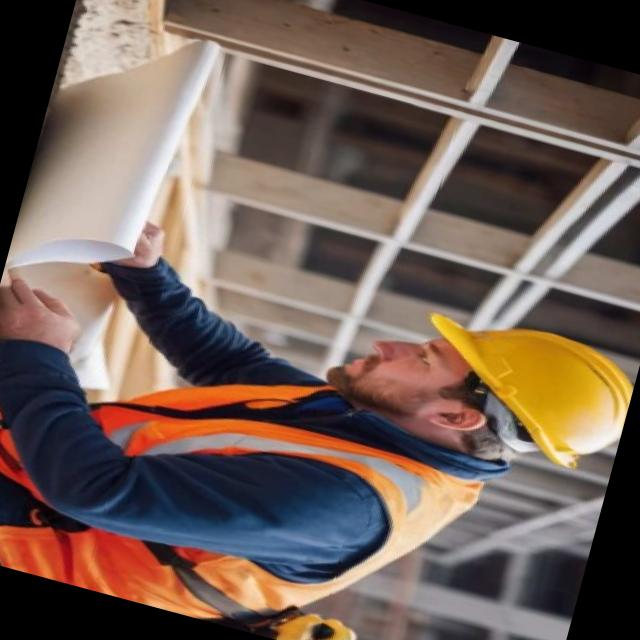not-gloved: (0, 264, 102, 361)
